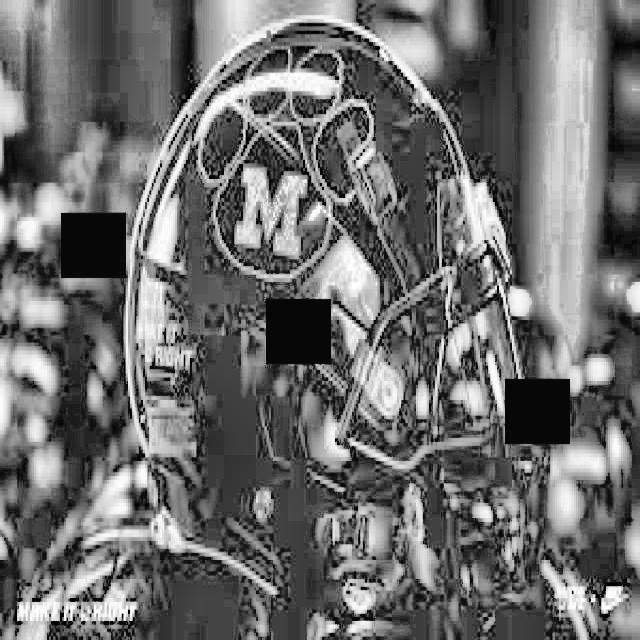Helmet: (107, 12, 537, 629)
